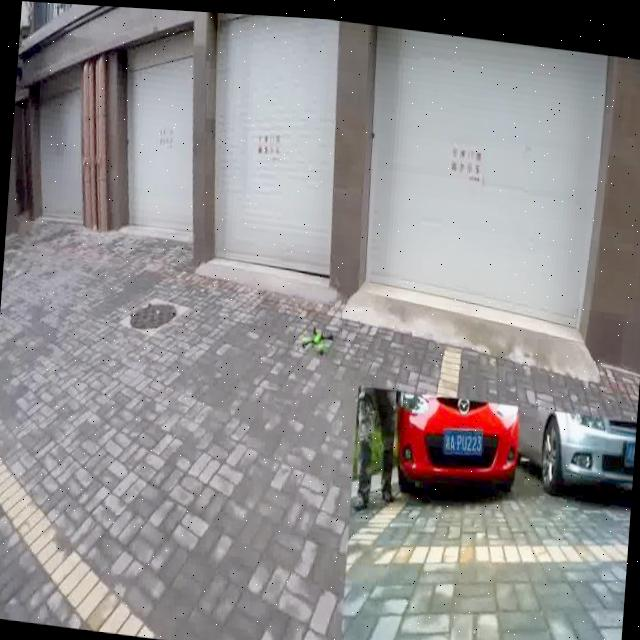drone: (298, 316, 334, 358)
